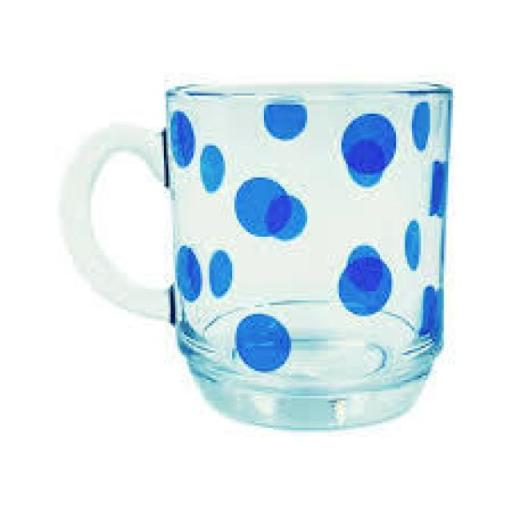glass: (47, 70, 467, 457)
